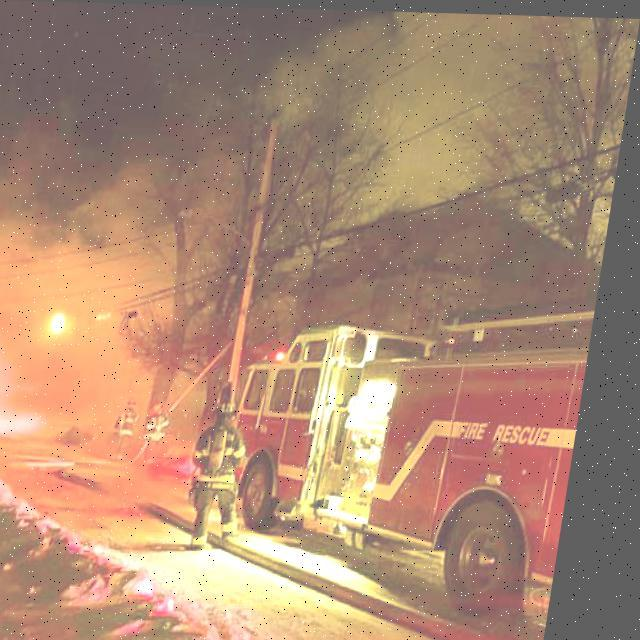Fire: (0, 323, 21, 446)
